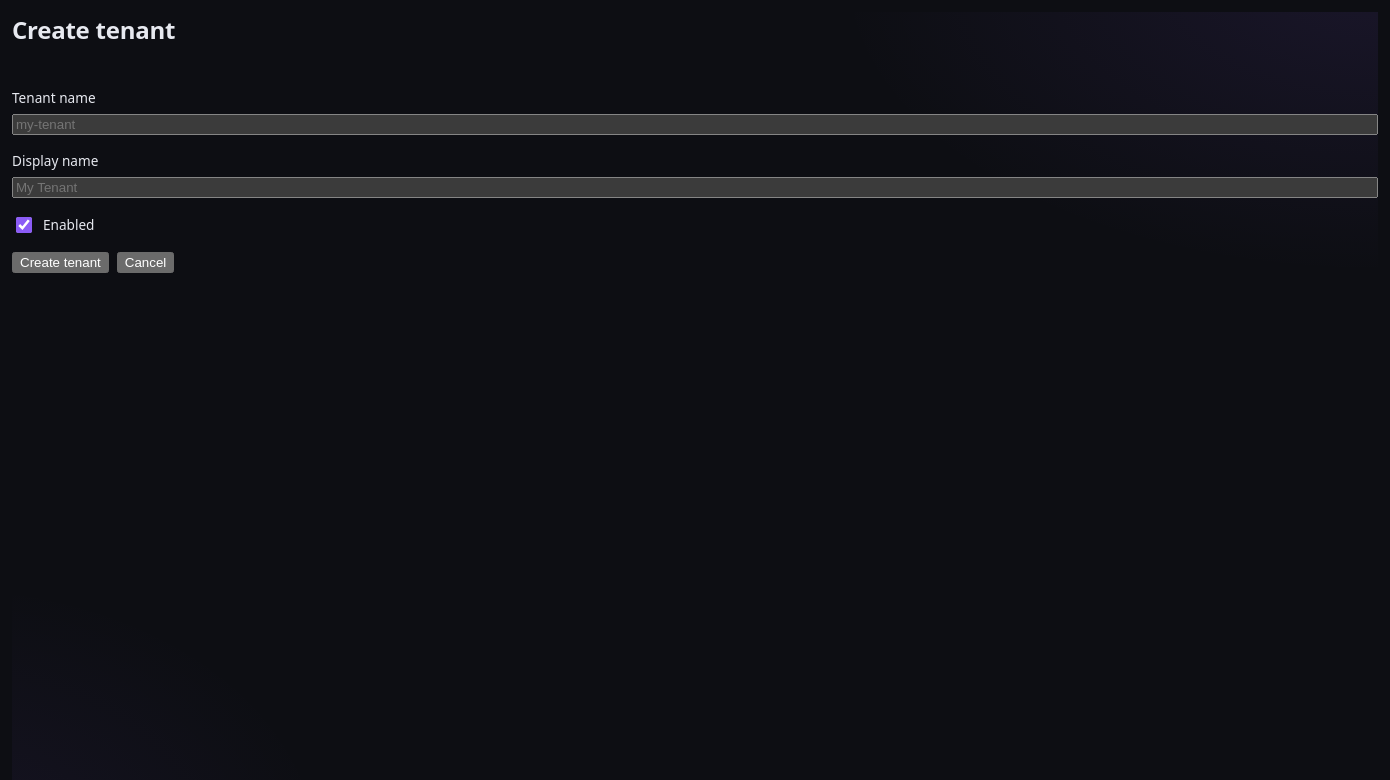
CreateTenant (integration) › blocks submit and shows a validation error for an empty name
Click the button "Create tenant". click: (60, 262)
box: [12,252,109,273]
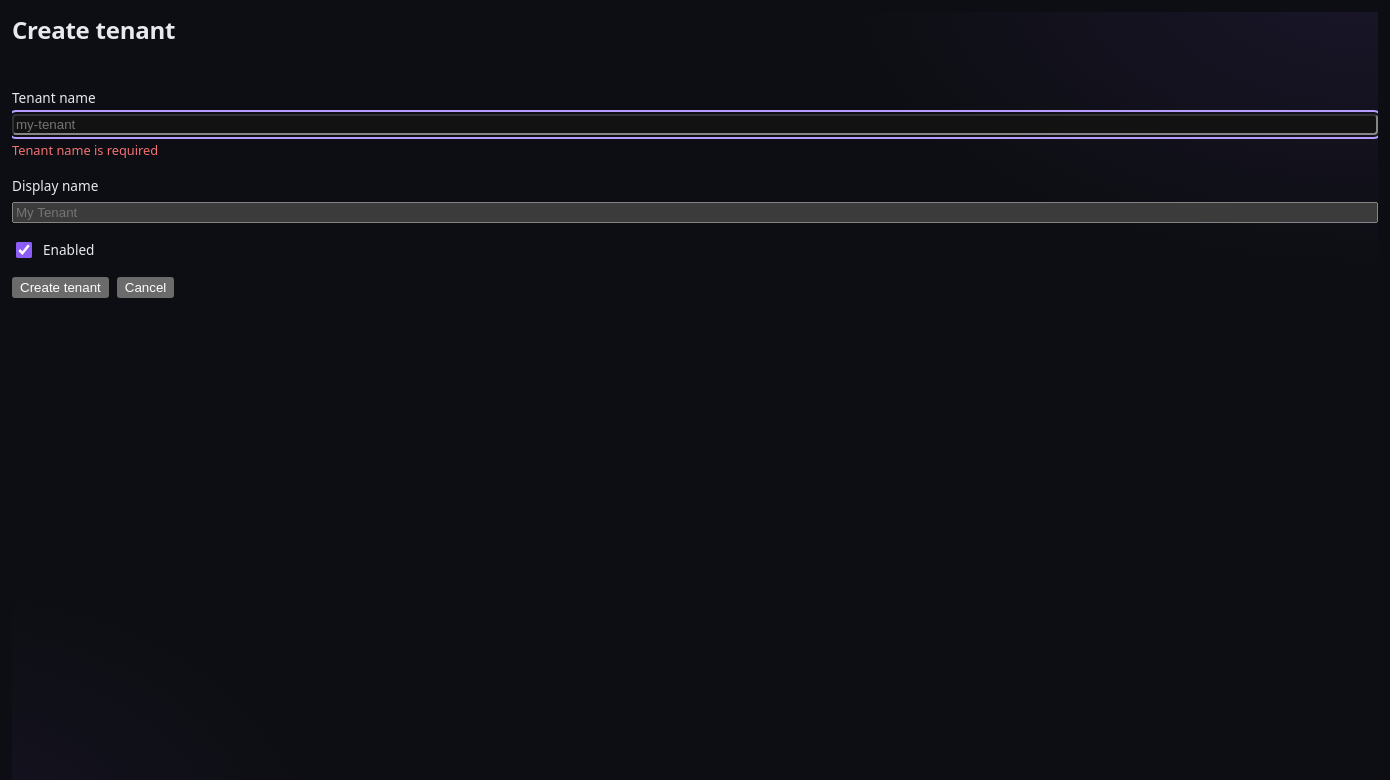
Check: the text "Tenant name is required" is shown, box [12,141,158,159]
